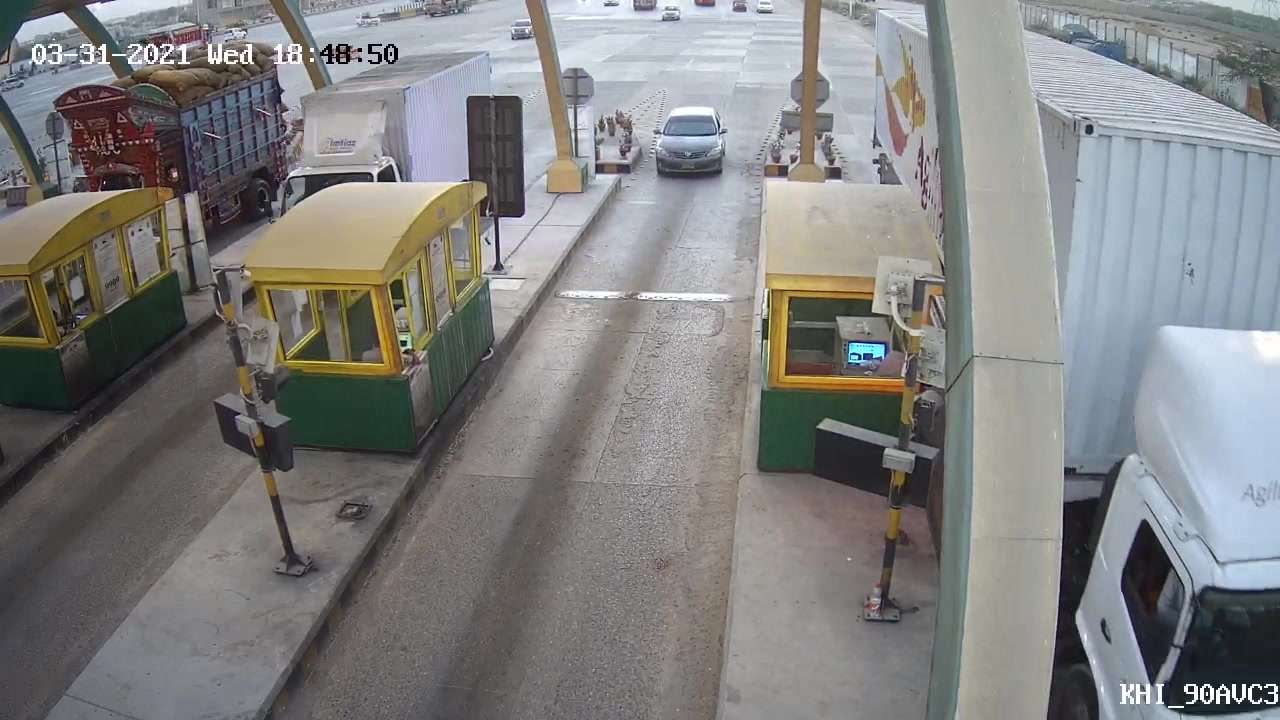F1: (642, 88, 729, 195)
